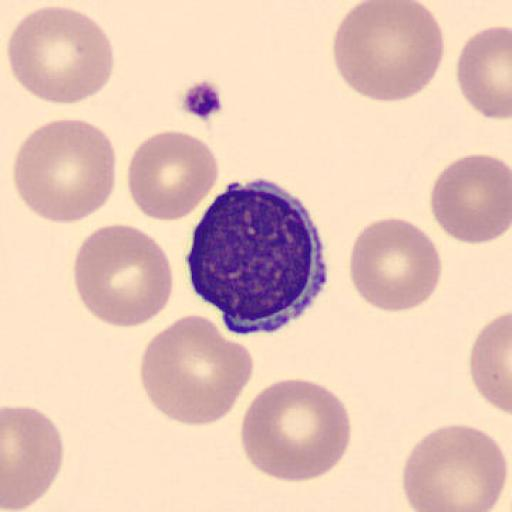Platelet: (189, 178, 327, 334), (183, 82, 222, 120)
RBC: (138, 314, 255, 428), (240, 376, 353, 482), (332, 0, 446, 103), (12, 117, 116, 224), (71, 224, 174, 329), (7, 6, 114, 106), (400, 422, 508, 510), (348, 216, 444, 313), (126, 128, 220, 222), (430, 152, 510, 246), (0, 404, 64, 510), (455, 24, 511, 120), (468, 330, 510, 415)
